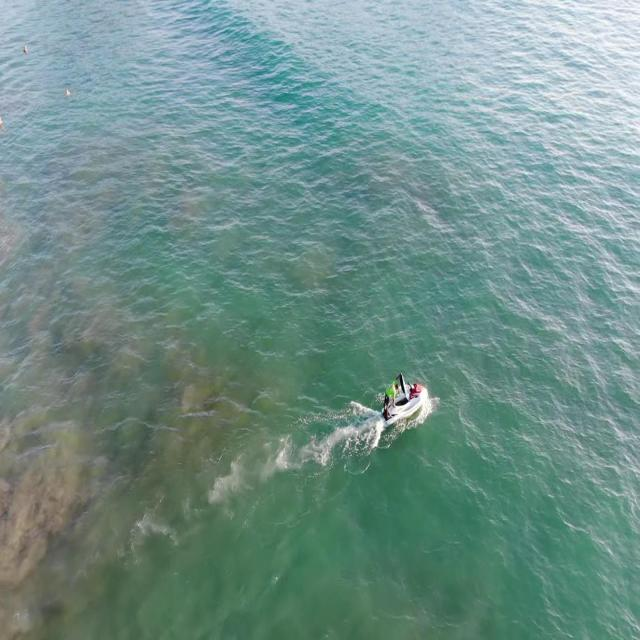boat: (375, 369, 428, 432)
